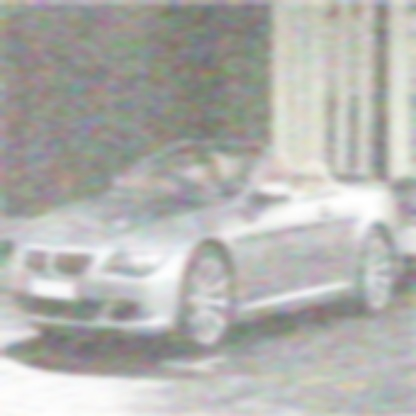Vehicle: (5, 138, 404, 356)
